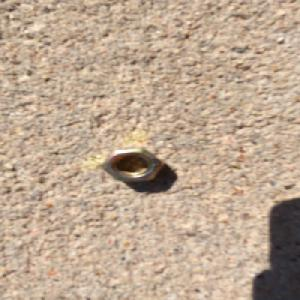Nut: (98, 147, 167, 187)
